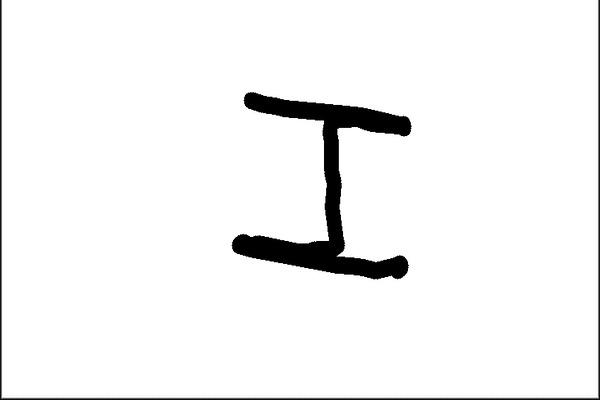i: (230, 76, 433, 284)
